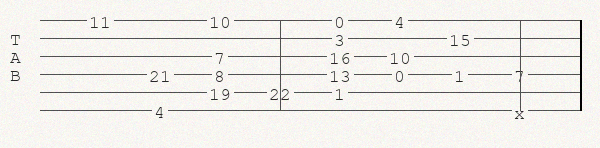0: (334, 13, 349, 28), (394, 67, 409, 82)
1: (334, 85, 349, 100), (454, 67, 469, 82)
10: (209, 13, 235, 28), (389, 49, 415, 64)
11: (89, 13, 115, 28)
13: (329, 67, 355, 82)
15: (449, 31, 475, 46)
16: (329, 49, 355, 64)
19: (209, 85, 235, 100)
21: (149, 67, 175, 82)
22: (269, 85, 295, 100)
3: (334, 31, 349, 46)
4: (154, 103, 169, 118), (394, 13, 409, 28)
7: (214, 49, 229, 64), (514, 67, 529, 82)
8: (214, 67, 229, 82)
x: (514, 104, 529, 116)
